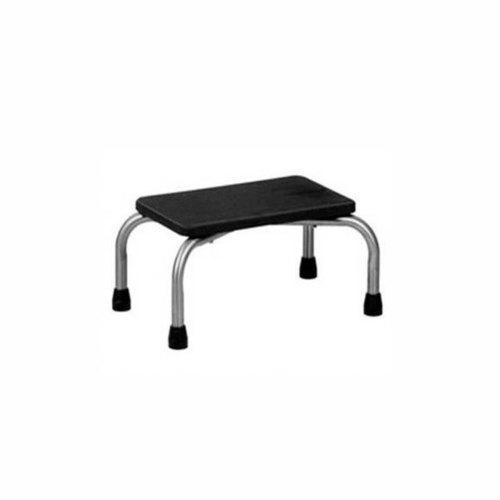stool: (108, 170, 393, 351)
